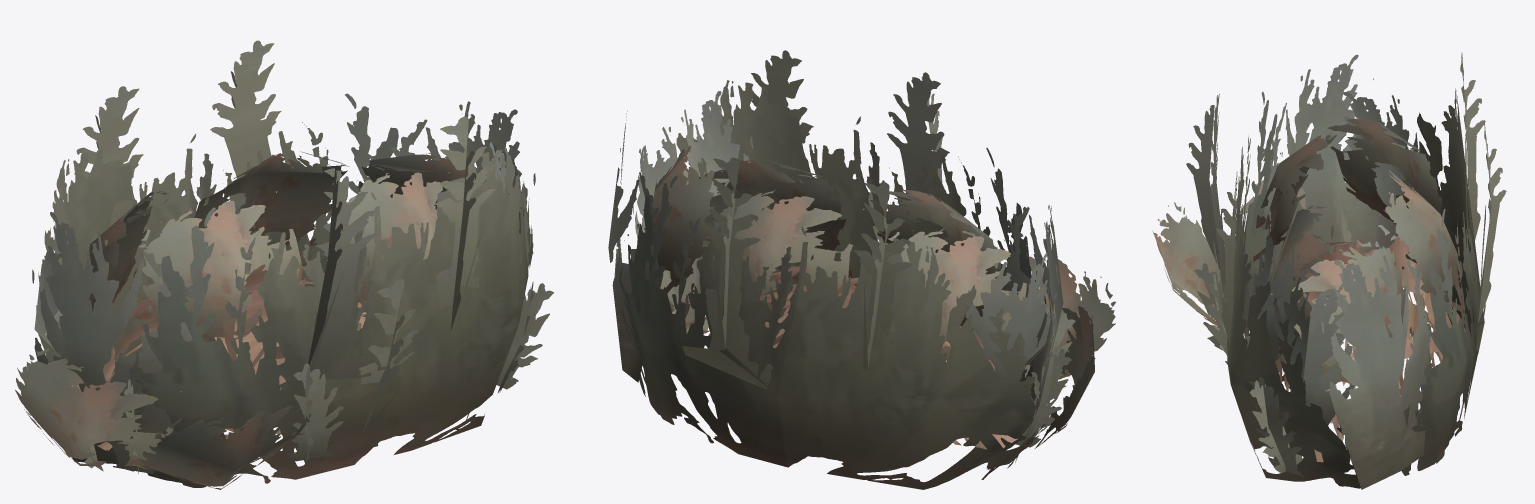
3 views of the same model, side by side, from view 1: azimuth 30°, elevation 25°; view 2: azimuth 150°, elevation 25°; view 3: azimuth 270°, elevation 25° (orthographic). The views are drawn at different scales.
Visible parts, largest first — view 1: body0_model0_lod0_mesh0; view 2: body0_model0_lod0_mesh0; view 3: body0_model0_lod0_mesh0.
Boxes of the visible parts, x1,y1,x2,y2 form: body0_model0_lod0_mesh0: (15, 40, 553, 489); body0_model0_lod0_mesh0: (608, 50, 1115, 489); body0_model0_lod0_mesh0: (1152, 53, 1506, 489).
Bounding box in the file's own units: 69.5 × 47.63 × 47.25.
1 material, 1 textured.
